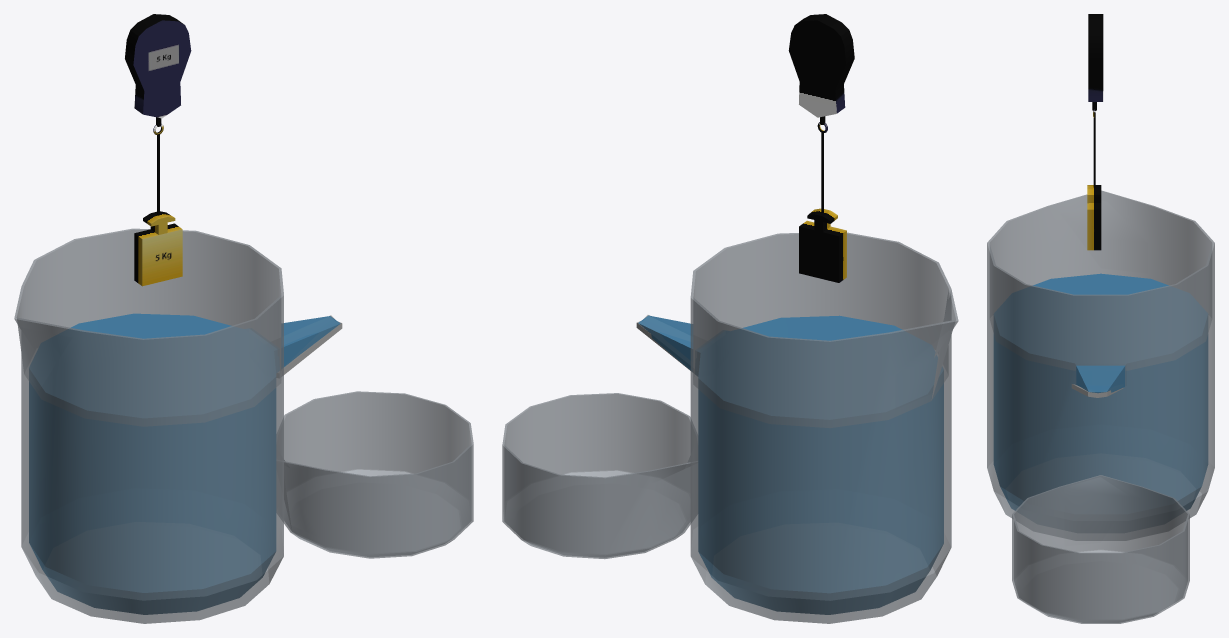
Rendered from beaker set.fbx.
The picture shows the model from 3 angles, left to right: view 1: azimuth 30°, elevation 25°; view 2: azimuth 150°, elevation 25°; view 3: azimuth 270°, elevation 25°; orthographic projection. The views are drawn at different scales.
Visible parts, largest first — view 1: beaker_set; view 2: beaker_set; view 3: beaker_set.
Part boxes in pixels (x1,y1,x2,y2): beaker_set: (14, 14, 473, 623); beaker_set: (502, 14, 958, 623); beaker_set: (987, 14, 1214, 623).
Size of the model in its own units: 57.99 by 69.79 by 29.81.
